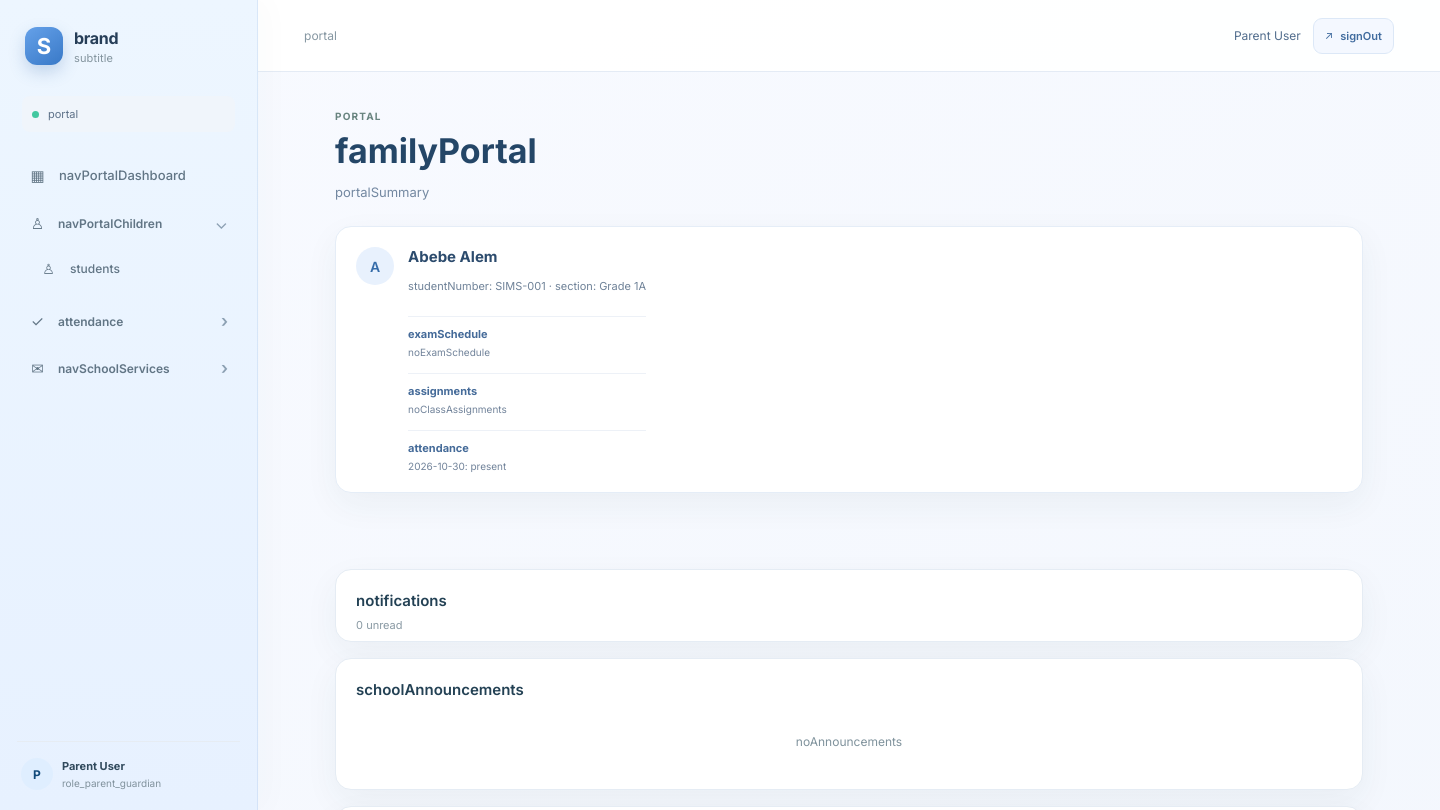
Test case: unauthenticated entry › shows linked students and only permitted family portal sections
The image size is (1440, 810).
Check: the heading "Abebe Alem" is shown, box [408,247,498,266]
Check: the text "2026-10-30: present" is shown, box [408,460,506,472]
What coordinates should you click on to do the following:
click the button "✉ navSchoolServices ›"
I would click on:
 (128, 368)
Its box is [17,347,240,389].
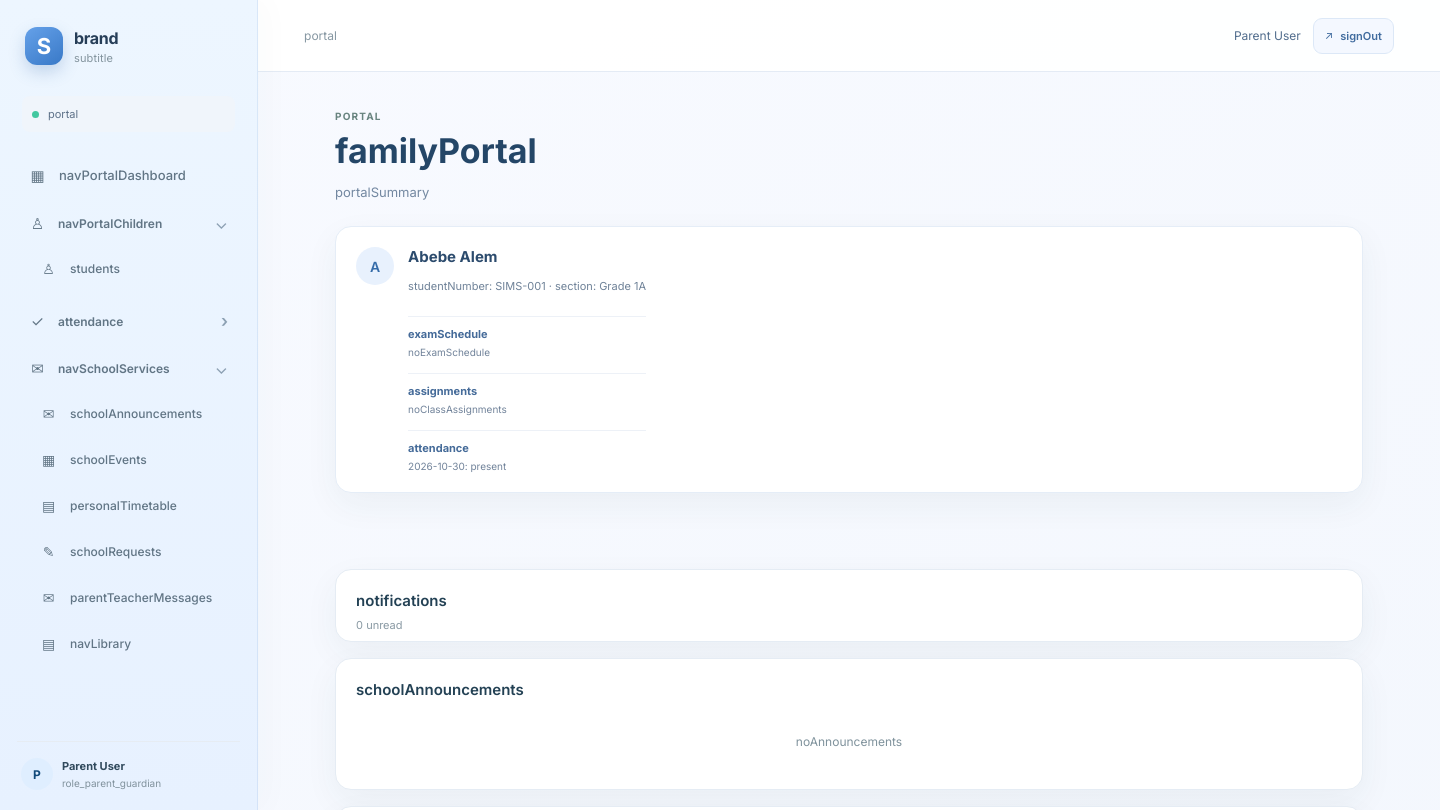
Check: the link to "#portal-announcements" is shown, box [43,405,202,422]
Check: the link to "#portal-requests" is shown, box [43,543,161,560]
Check: the link to "#portal-messages" is shown, box [43,589,212,606]
